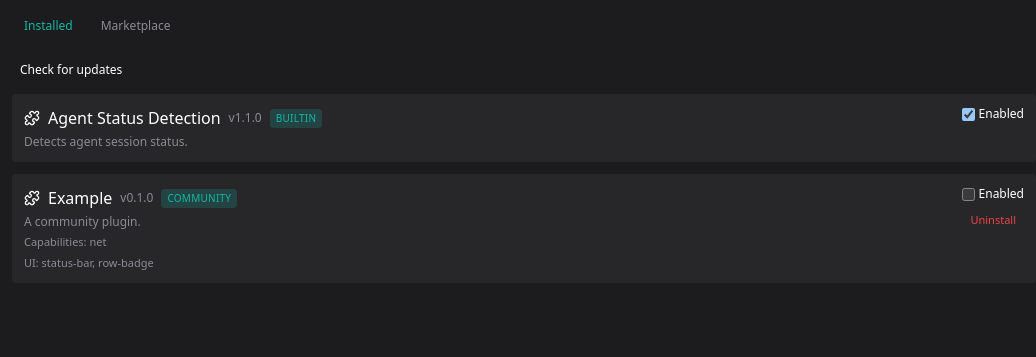
Test: PluginsSettings › surfaces a preview error inline
Click the button with test id "plugins-check-updates": (71, 70) [12,58,130,82]
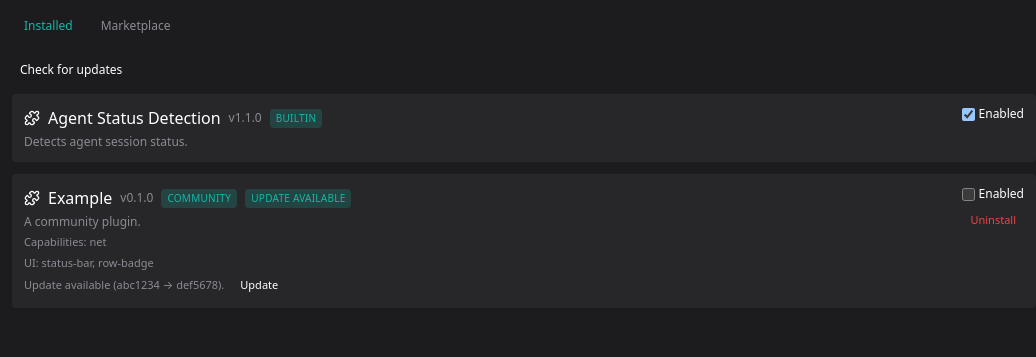
Click the button with test id "plugin-update-example.plugin": (259, 285) [232,275,286,296]
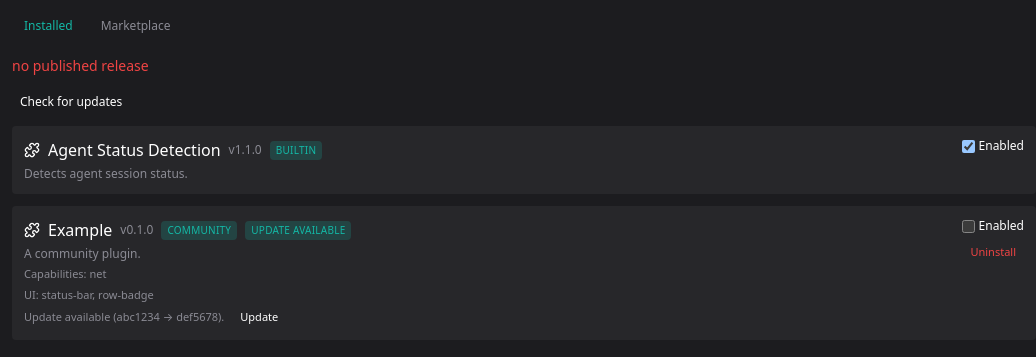
Expected: the text "no published release" is shown, [12,56,149,75]
